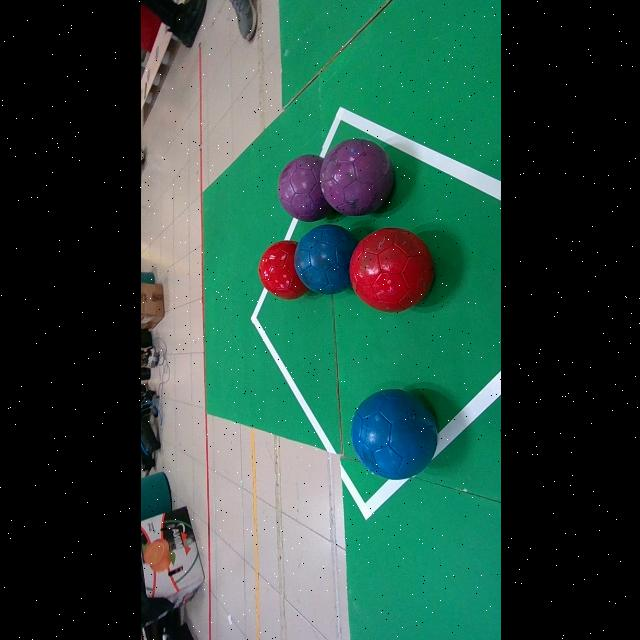B: (350, 389, 437, 480), (293, 224, 356, 295)
P: (319, 138, 391, 215), (277, 154, 331, 222)
R: (349, 227, 433, 312), (258, 240, 307, 300)
